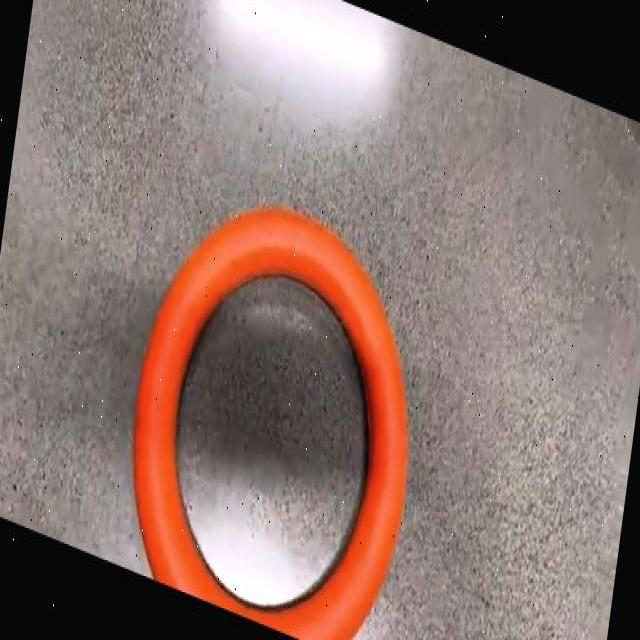note: (134, 208, 409, 640)
